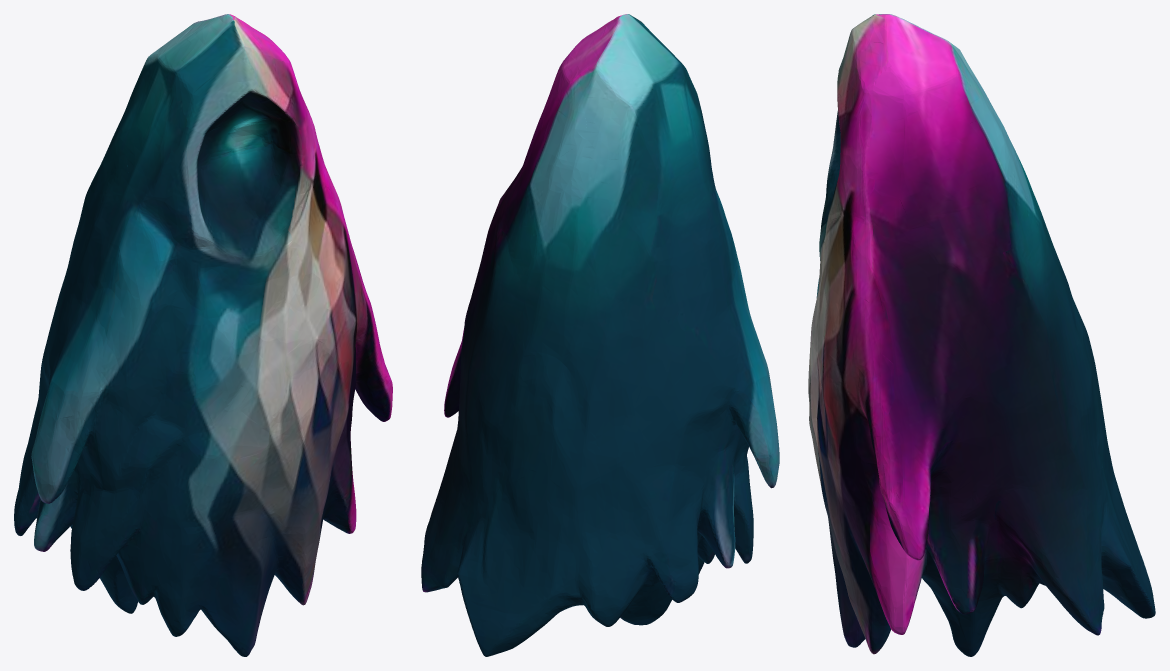
Rendered from VEILWISP.glb.
3 renders of one model, left to right at view 1: azimuth 30°, elevation 25°; view 2: azimuth 150°, elevation 25°; view 3: azimuth 270°, elevation 25°, orthographic. The views are drawn at different scales.
Parts seen in each view (by area): view 1: VEILWISP_512; view 2: VEILWISP_512; view 3: VEILWISP_512.
Boxes of the visible parts, left/top/right/bottom form: VEILWISP_512: left=14, top=14, right=392, bottom=656; VEILWISP_512: left=421, top=14, right=779, bottom=656; VEILWISP_512: left=808, top=14, right=1155, bottom=656.
Size of the model in its own units: 1.17 by 1.99 by 0.9913.
Materials: 1 (1 with a texture image).
